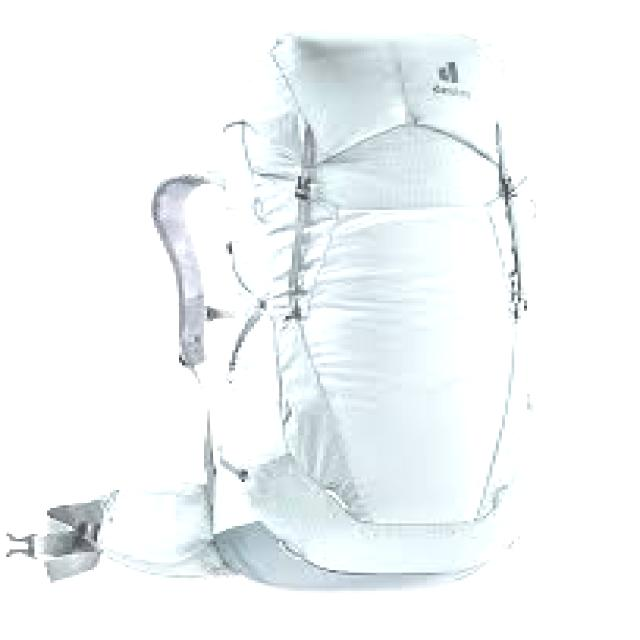backpack: (5, 27, 541, 589)
